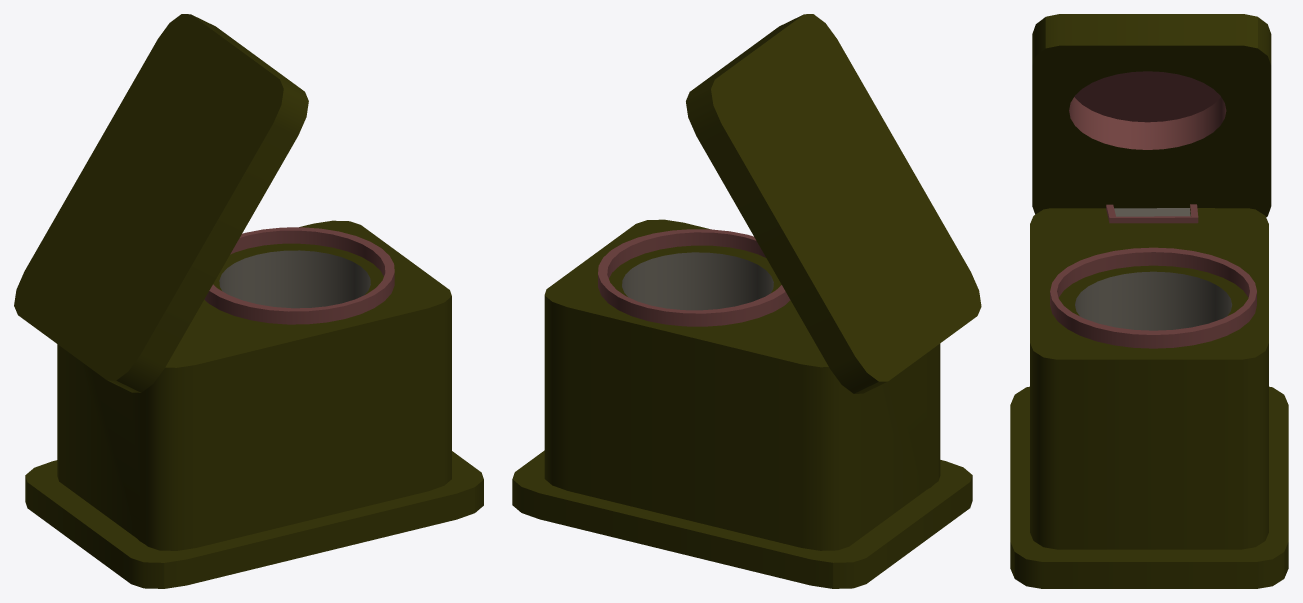
File: Processor.fbx
3 views of the same model, side by side, from view 1: azimuth 30°, elevation 25°; view 2: azimuth 150°, elevation 25°; view 3: azimuth 270°, elevation 25° (orthographic). The views are drawn at different scales.
Parts seen in each view (by area): view 1: Cube.001; view 2: Cube.001; view 3: Cube.001.
Part boxes in pixels (x1=…): Cube.001: x1=14, y1=14, x2=483, y2=588; Cube.001: x1=512, y1=14, x2=981, y2=588; Cube.001: x1=1010, y1=14, x2=1288, y2=588.
Bounding box in the file's own units: 366 × 440 × 232.
